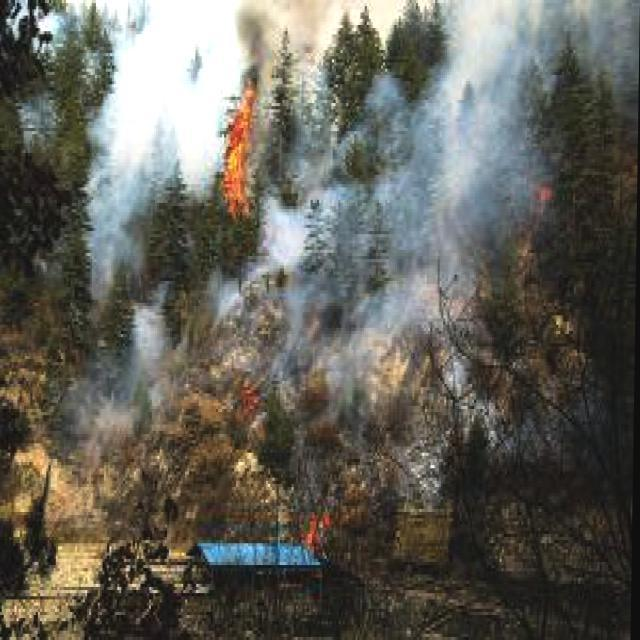Fire: (216, 69, 270, 228), (299, 493, 338, 553)
